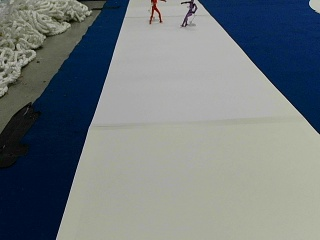pedestrian: (179, 0, 197, 26), (148, 0, 166, 23)
